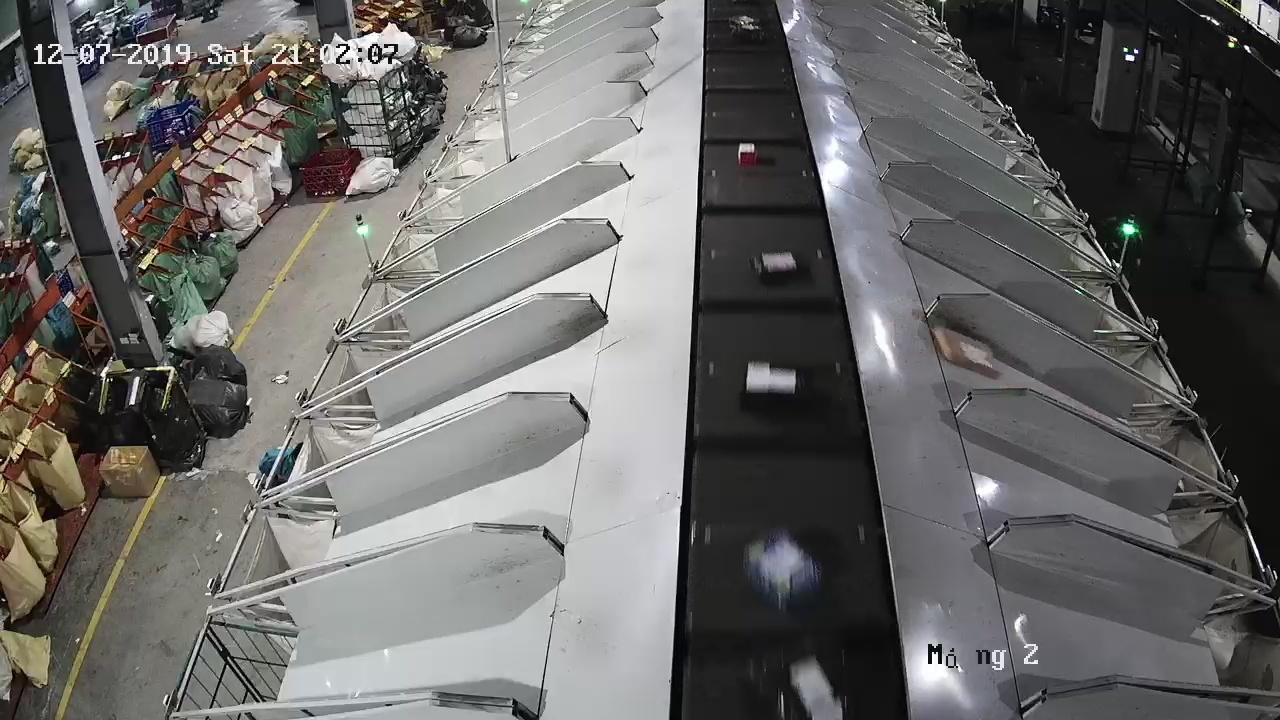parcel: (930, 325, 996, 377)
